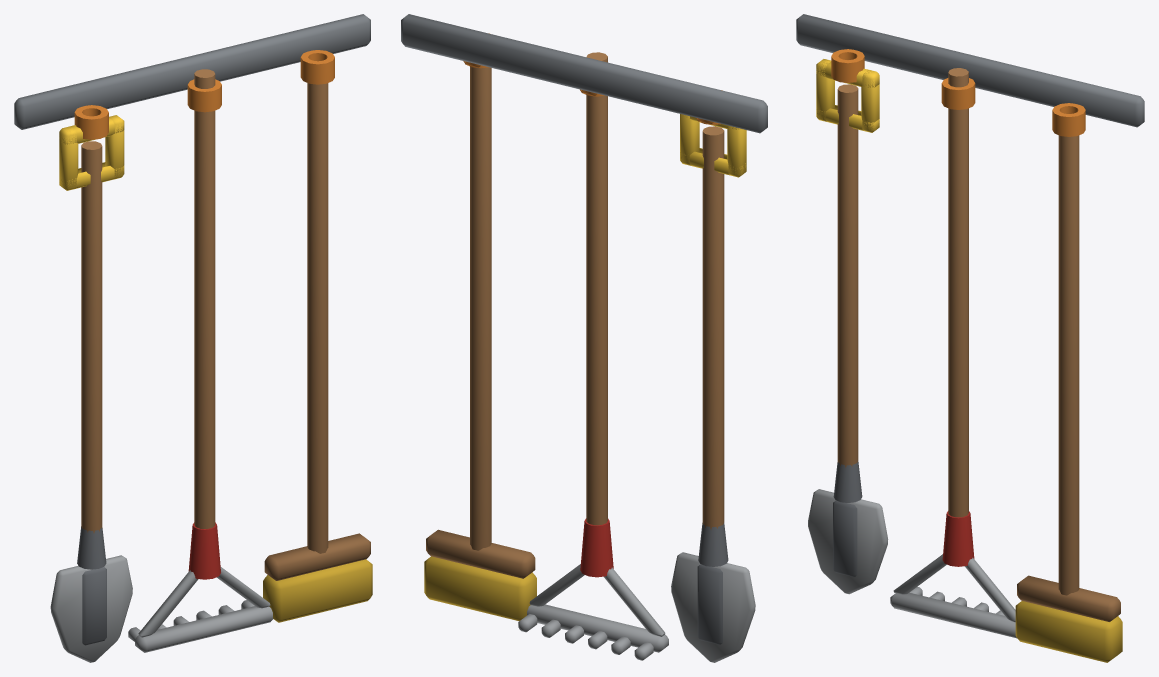
File: SM_GardenTools_Rack_01.glb
3 renders of one model, left to right at view 1: azimuth 30°, elevation 25°; view 2: azimuth 150°, elevation 25°; view 3: azimuth 330°, elevation 25°, orthographic. The views are drawn at different scales.
Parts seen in each view (by area): view 1: SM_GardenTools_Rack_01; view 2: SM_GardenTools_Rack_01; view 3: SM_GardenTools_Rack_01.
Boxes of the visible parts, box(x1,y1,x2,y2) form: SM_GardenTools_Rack_01: box(14, 14, 372, 662); SM_GardenTools_Rack_01: box(401, 14, 767, 662); SM_GardenTools_Rack_01: box(796, 14, 1144, 662).
Size of the model in its own units: 1 by 1.54 by 0.122.
Materials: 1 (1 with a texture image).
